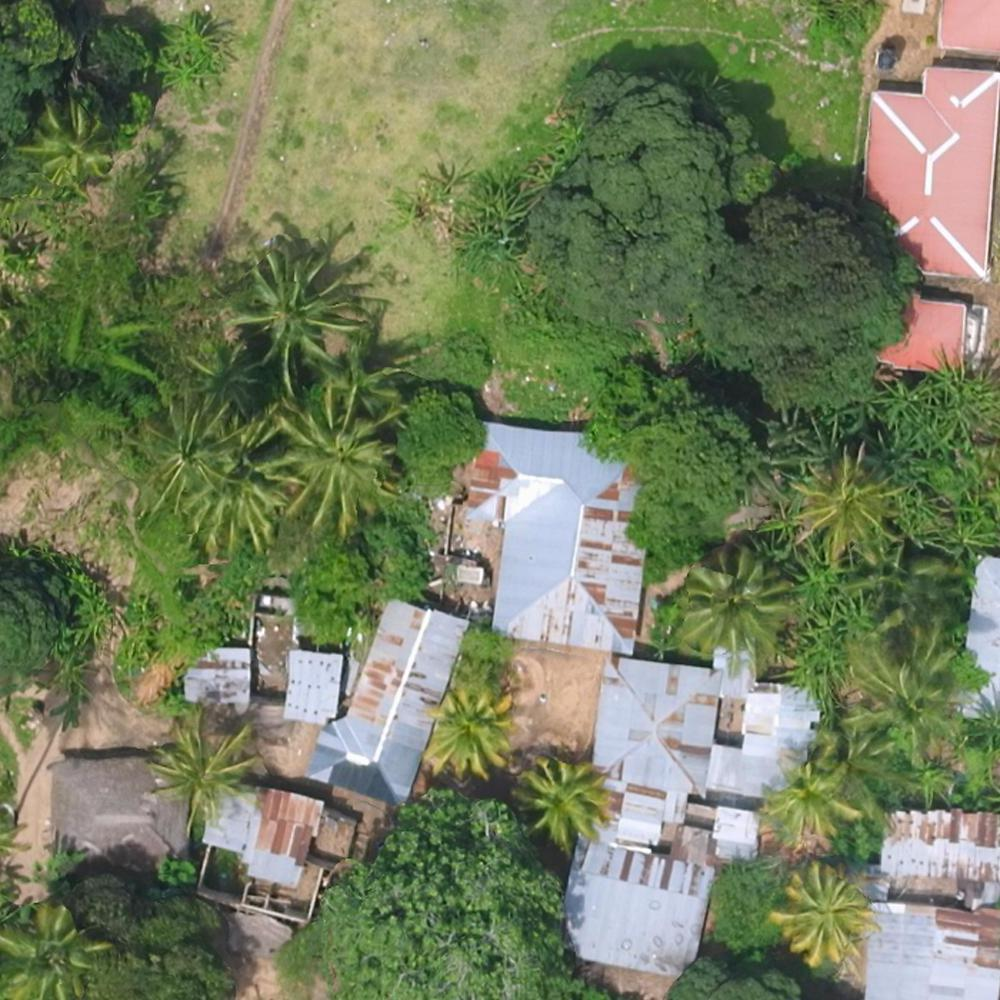Palm: (234, 263, 345, 373), (277, 413, 387, 517), (788, 455, 895, 555), (684, 563, 784, 659), (148, 404, 238, 507), (160, 712, 247, 808), (517, 758, 608, 846), (779, 872, 867, 959), (767, 762, 857, 842), (21, 101, 105, 184), (425, 684, 507, 769)
